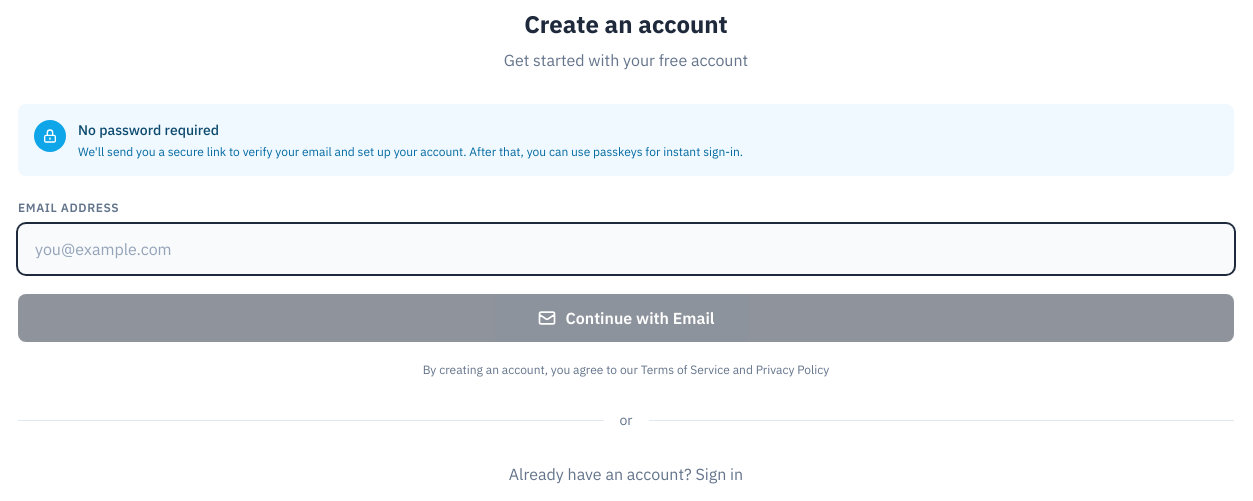
Test: RegisterPage › form validation › should enable submit button when valid email is entered
In the field labelled "Email Address": [626, 249] box top-left (18, 224), bottom-right (1234, 274), type "test@example.com"
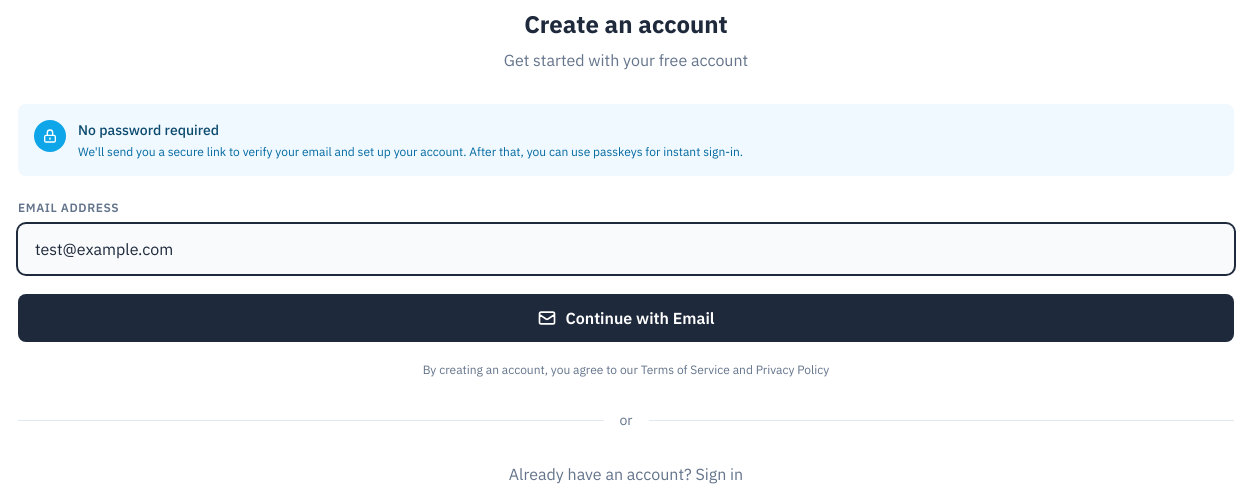
Now the button "Continue with Email" is enabled, box top-left (18, 294), bottom-right (1234, 342)
